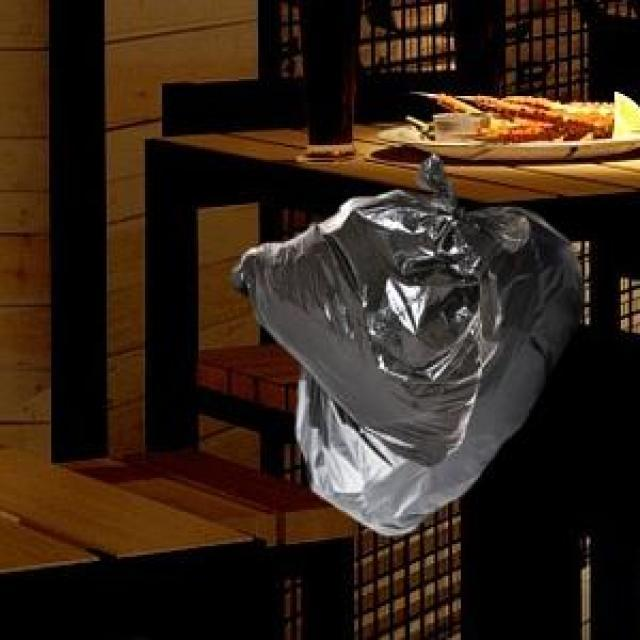Trashbag: (225, 150, 492, 472)
